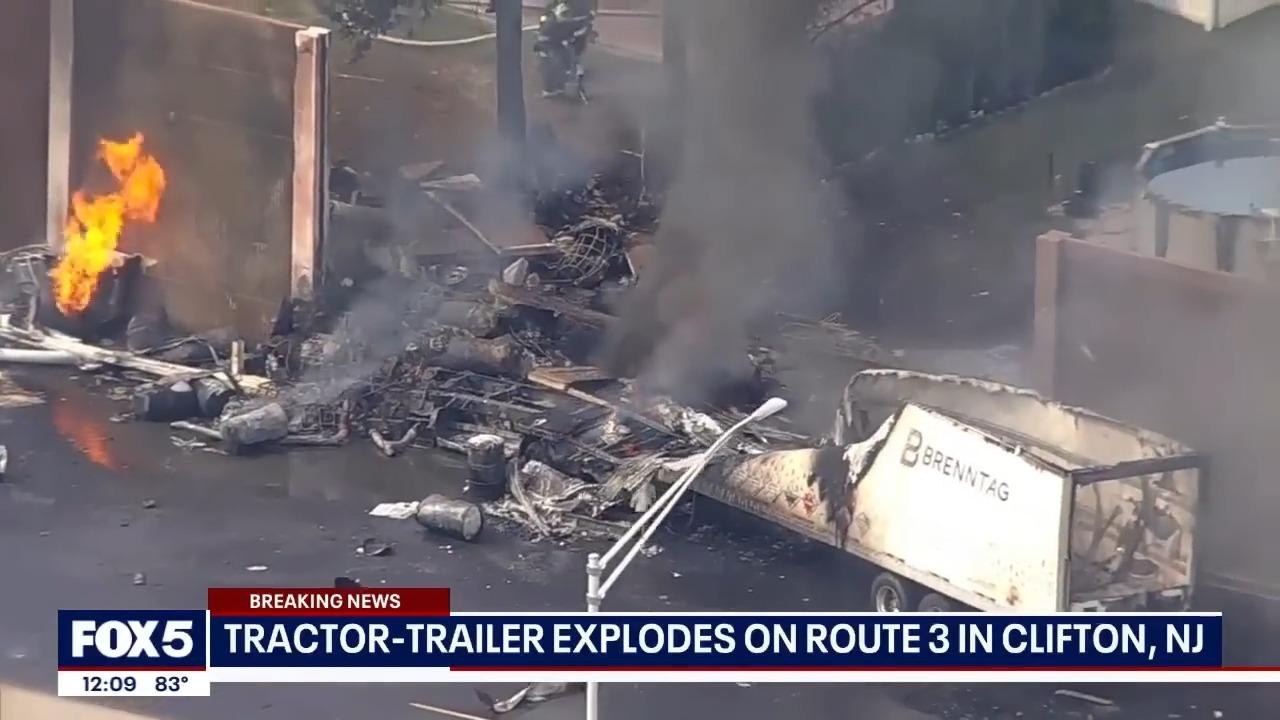fire: (43, 117, 166, 323)
